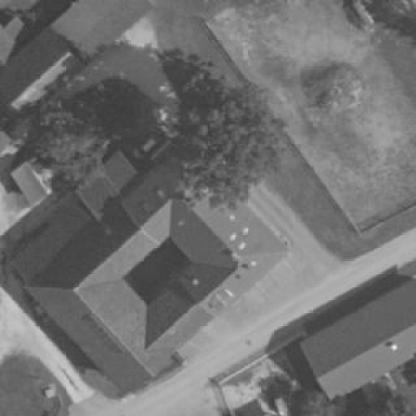solar-pv-panel: (83, 315, 125, 355)
